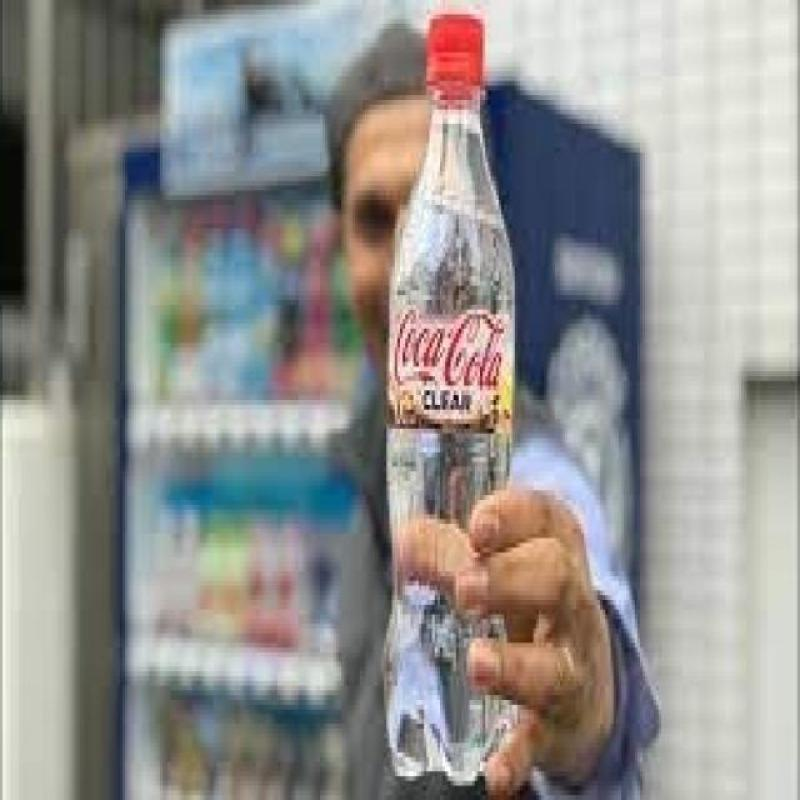botella: (385, 15, 519, 790)
